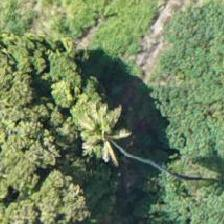coconut_tree: (46, 13, 136, 103), (63, 93, 153, 183)
